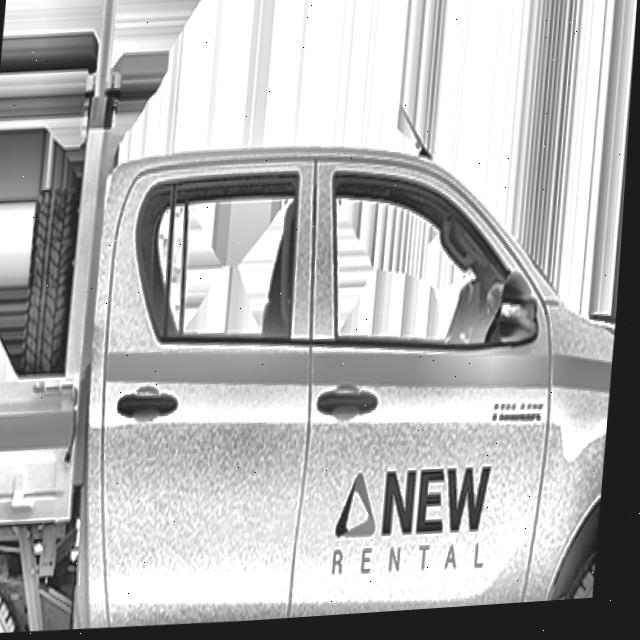light_vehicle: (0, 77, 634, 640)
